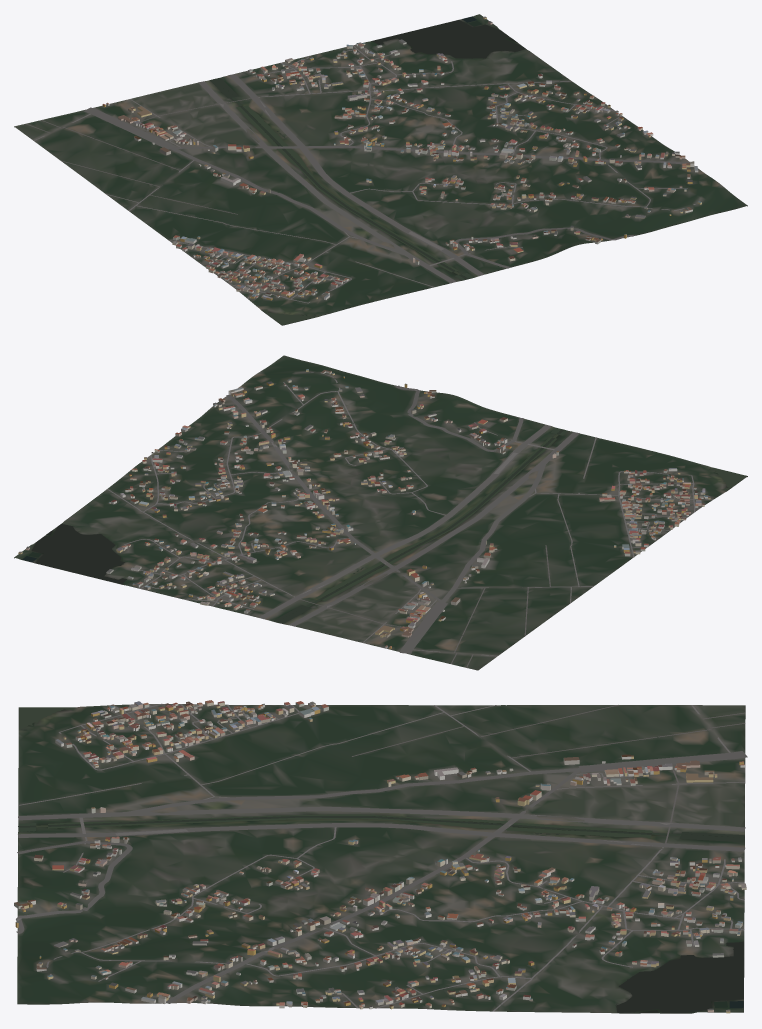
The picture shows the model from 3 angles, top to bottom: view 1: azimuth 30°, elevation 25°; view 2: azimuth 150°, elevation 25°; view 3: azimuth 270°, elevation 25°; orthographic projection. The views are drawn at different scales.
Parts seen in each view (by area): view 1: ground, buildings, roads, water; view 2: ground, buildings, roads, water; view 3: ground, buildings, roads, water.
Boxes of the visible parts, bbox=[...] form: ground: bbox=[14, 14, 747, 325]; buildings: bbox=[102, 16, 701, 300]; roads: bbox=[25, 45, 695, 303]; water: bbox=[209, 16, 525, 325]; ground: bbox=[14, 355, 747, 670]; buildings: bbox=[18, 369, 710, 649]; roads: bbox=[107, 372, 712, 667]; water: bbox=[22, 427, 746, 623]; ground: bbox=[17, 704, 745, 1013]; buildings: bbox=[14, 700, 746, 1013]; roads: bbox=[16, 703, 747, 1011]; water: bbox=[18, 707, 744, 1012].
Size of the model in its own units: 1414 by 35.65 by 1416.
